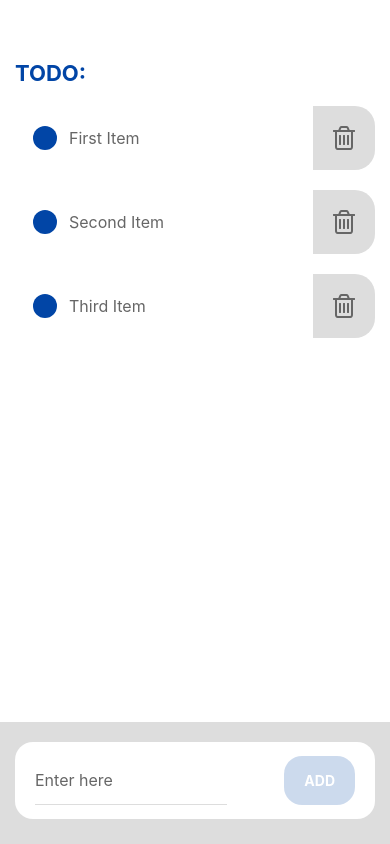
Scenario: Home screen › should create one item
Type "Forth Item" into the field with test id "inputPanelInput" at point(131, 780), box [35,756,227,805]
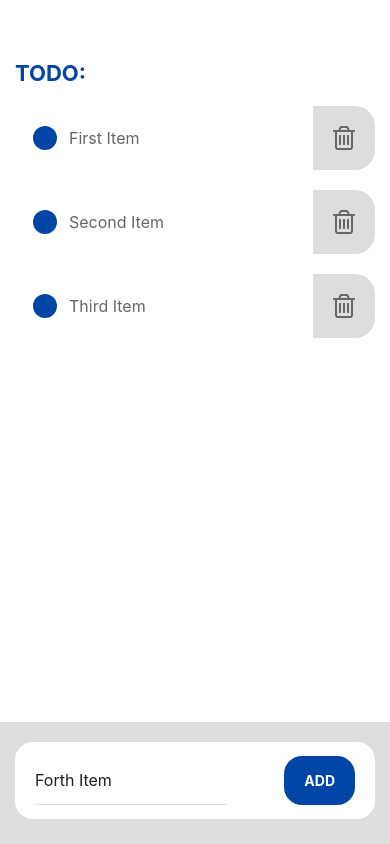
Click the element with test id "inputPanelButton" at point(320, 780), box [284,756,355,805]
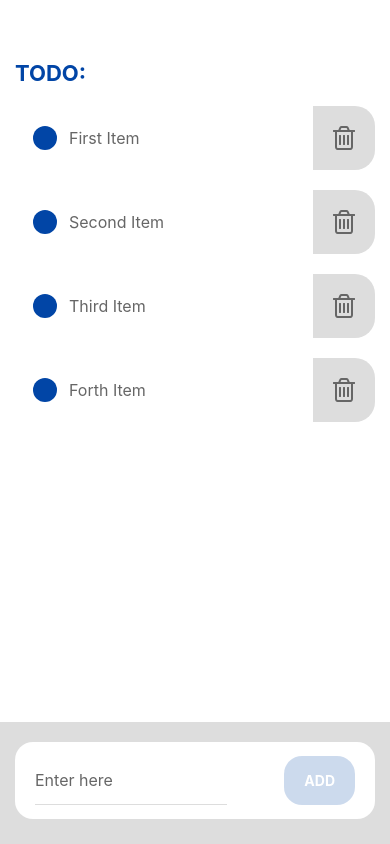
Expected: the element with test id "inputPanelButton" reads "ADD", [304,772,335,789]
Expected: the element with test id "list" shows "Forth Item", [69,380,146,400]
Expected: the element with test id "inputPanelButton" is disabled, [284,756,355,805]
